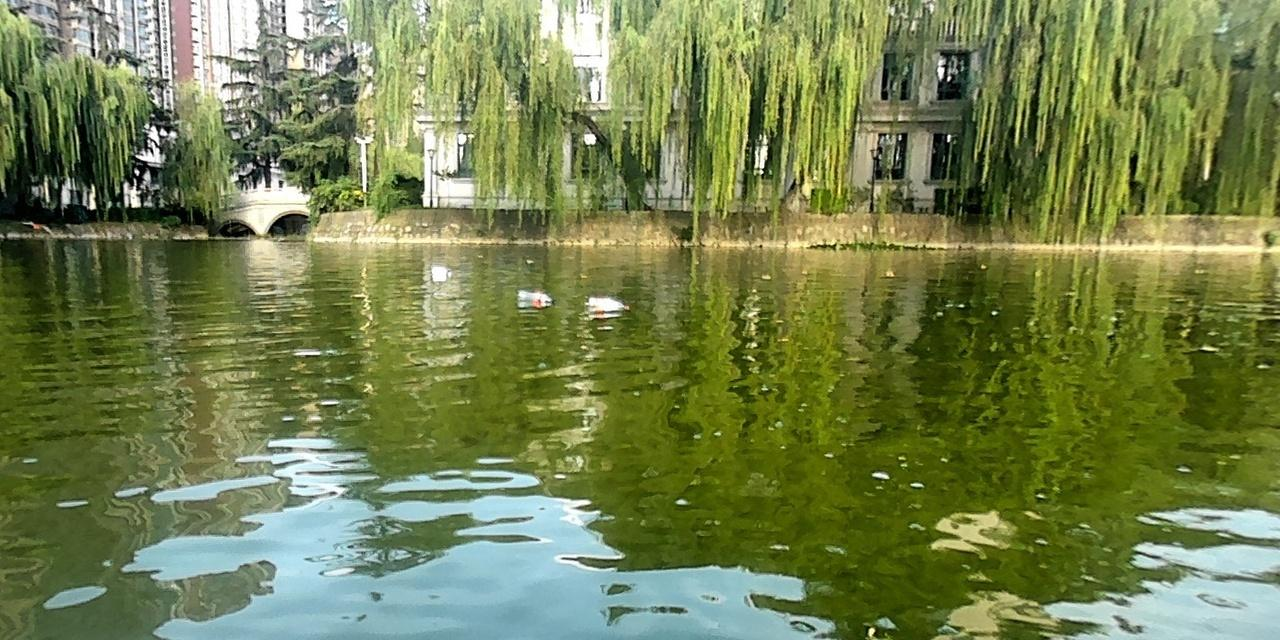bottle: (586, 296, 629, 315), (516, 289, 553, 308)
